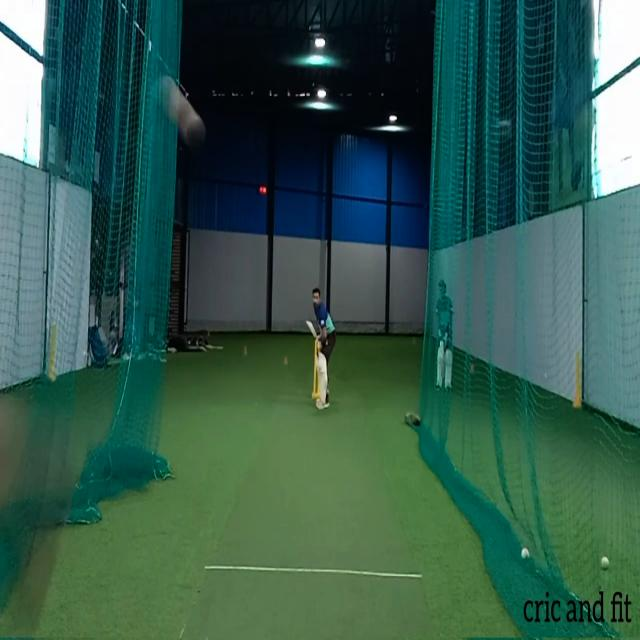batsman: (306, 286, 338, 411)
